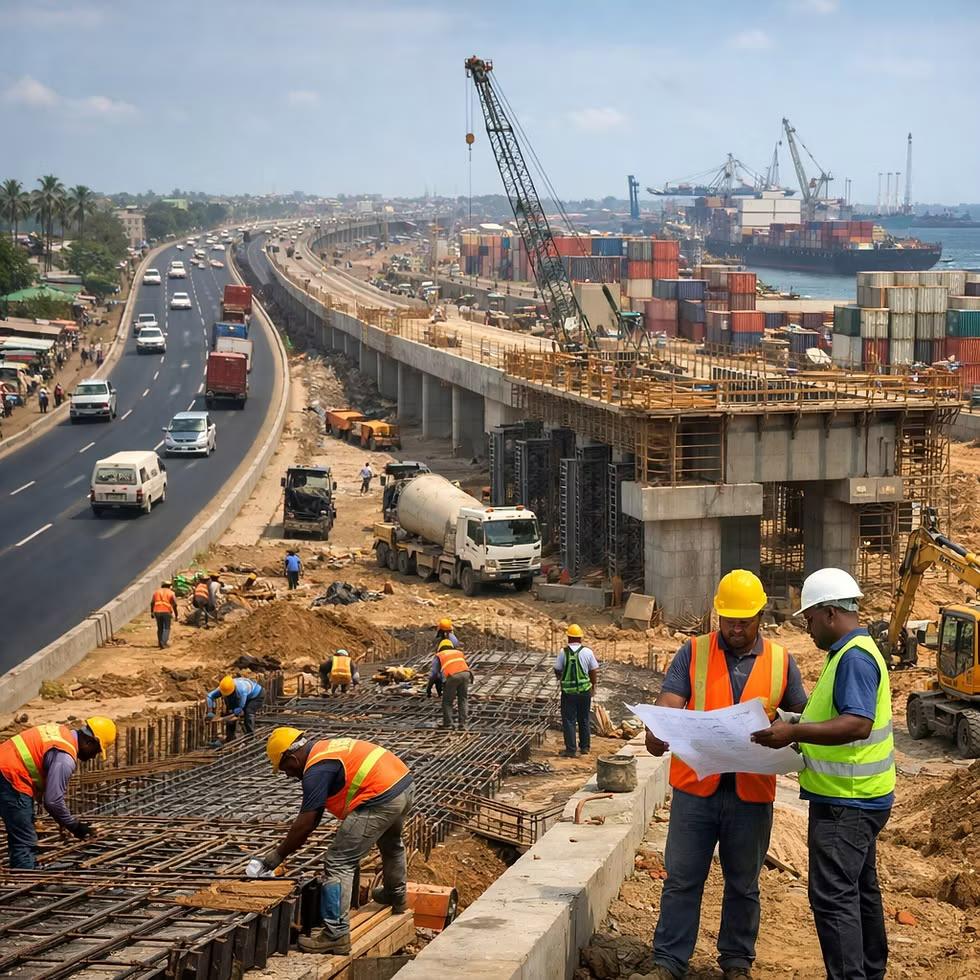crane: (417, 42, 626, 370), (756, 104, 853, 220)
excavator: (871, 508, 973, 768)
hardhat: (673, 559, 764, 633), (801, 560, 872, 617), (250, 725, 311, 777), (75, 705, 112, 776), (561, 613, 594, 654), (202, 671, 239, 699), (425, 627, 456, 655), (322, 638, 351, 664)
person: (635, 550, 789, 968), (244, 713, 445, 970), (783, 561, 898, 975), (8, 705, 114, 872), (408, 613, 484, 752), (551, 608, 604, 790), (190, 658, 277, 736), (301, 638, 364, 689), (148, 580, 185, 657), (277, 546, 320, 594), (189, 571, 230, 611)
safety_vest: (668, 628, 769, 809), (807, 634, 886, 814), (285, 741, 408, 824), (14, 722, 68, 807), (425, 642, 467, 692), (560, 648, 595, 696), (324, 657, 349, 679), (155, 594, 173, 620)
truck: (360, 460, 561, 605), (194, 340, 257, 411), (216, 273, 273, 343)
